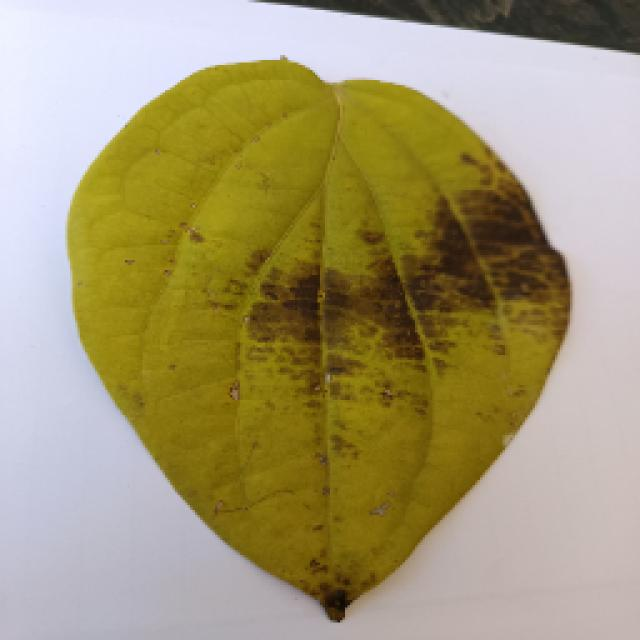slow-decline: (35, 75, 593, 630)
